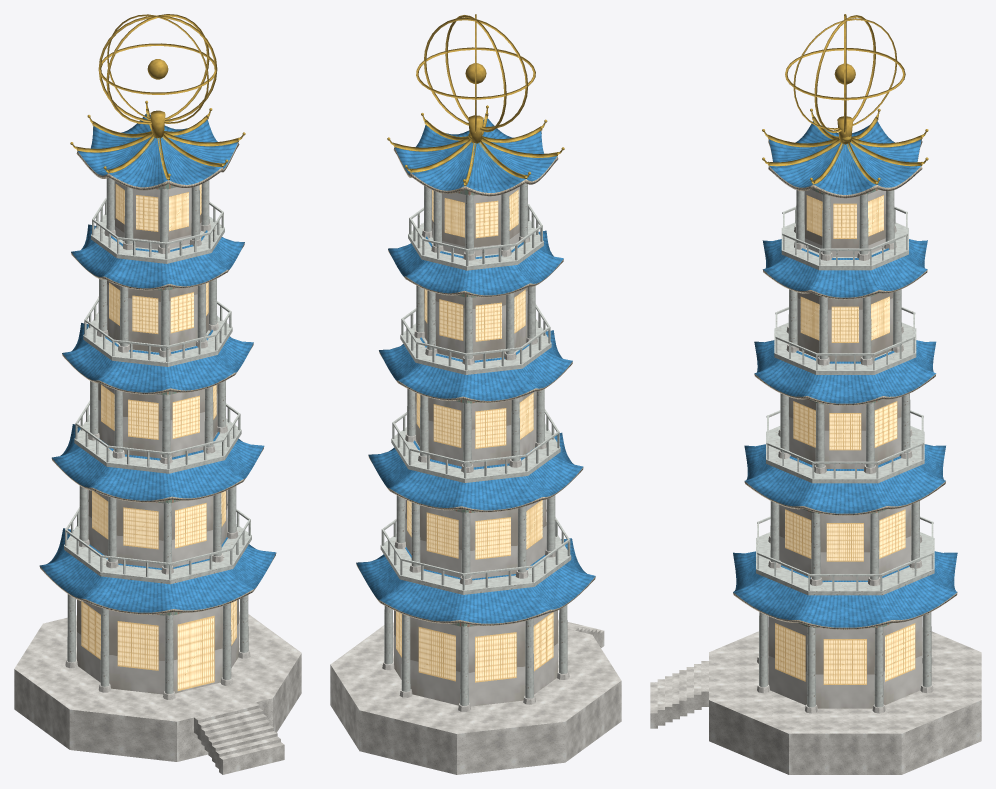
Rendered from observatory.glb.
3 renders of one model, left to right at view 1: azimuth 30°, elevation 25°; view 2: azimuth 150°, elevation 25°; view 3: azimuth 270°, elevation 25°, orthographic.
Parts seen in each view (by area): view 1: ObsPlinth, ObsWalls, ObsWindows, ObsBalconies, ObsPillars, ObsEave0, ObsEave1, ObsCap, ObsEave2, ObsEave3, ObsPlinthSteps, Armillary (+2 smaller); view 2: ObsPlinth, ObsWalls, ObsWindows, ObsBalconies, ObsPillars, ObsEave0, ObsEave1, ObsCap, ObsEave2, ObsEave3, Armillary, ObsCapRidges (+1 smaller); view 3: ObsPlinth, ObsWalls, ObsWindows, ObsBalconies, ObsPillars, ObsEave0, ObsEave1, ObsCap, ObsEave2, ObsEave3, Armillary, ObsPlinthSteps (+2 smaller).
Part boxes in pixels (x1=…): ObsPlinth: x1=14, y1=611, x2=301, y2=761; ObsWalls: x1=77, y1=181, x2=238, y2=694; ObsWindows: x1=81, y1=184, x2=236, y2=690; ObsBalconies: x1=64, y1=198, x2=251, y2=584; ObsPillars: x1=67, y1=177, x2=248, y2=693; ObsEave0: x1=39, y1=528, x2=276, y2=614; ObsEave1: x1=51, y1=424, x2=264, y2=502; ObsCap: x1=76, y1=112, x2=239, y2=190; ObsEave2: x1=62, y1=323, x2=253, y2=394; ObsEave3: x1=71, y1=224, x2=244, y2=290; ObsPlinthSteps: x1=194, y1=702, x2=284, y2=774; Armillary: x1=98, y1=14, x2=217, y2=138; ObsPlinth: x1=330, y1=622, x2=621, y2=774; ObsWalls: x1=394, y1=186, x2=557, y2=706; ObsWindows: x1=396, y1=189, x2=553, y2=682; ObsBalconies: x1=380, y1=204, x2=571, y2=594; ObsPillars: x1=384, y1=183, x2=567, y2=705; ObsEave0: x1=356, y1=538, x2=595, y2=625; ObsEave1: x1=368, y1=432, x2=583, y2=512; ObsCap: x1=393, y1=118, x2=558, y2=196; ObsEave2: x1=379, y1=330, x2=572, y2=402; ObsEave3: x1=388, y1=230, x2=563, y2=297; Armillary: x1=416, y1=14, x2=535, y2=143; ObsCapRidges: x1=394, y1=113, x2=557, y2=185; ObsPlinth: x1=709, y1=627, x2=981, y2=774; ObsWalls: x1=768, y1=189, x2=922, y2=708; ObsWindows: x1=775, y1=195, x2=915, y2=684; ObsBalconies: x1=756, y1=206, x2=934, y2=595; ObsPillars: x1=759, y1=190, x2=931, y2=707; ObsEave0: x1=733, y1=551, x2=957, y2=629; ObsEave1: x1=744, y1=444, x2=945, y2=515; ObsCap: x1=768, y1=121, x2=922, y2=198; ObsEave2: x1=754, y1=340, x2=936, y2=405; ObsEave3: x1=762, y1=239, x2=927, y2=299; Armillary: x1=785, y1=14, x2=905, y2=144; ObsPlinthSteps: x1=650, y1=661, x2=708, y2=728.
Size of what is drawn, in the model's own units: 12 by 33.9 by 14.58.
Materials: 10 (10 with a texture image).
